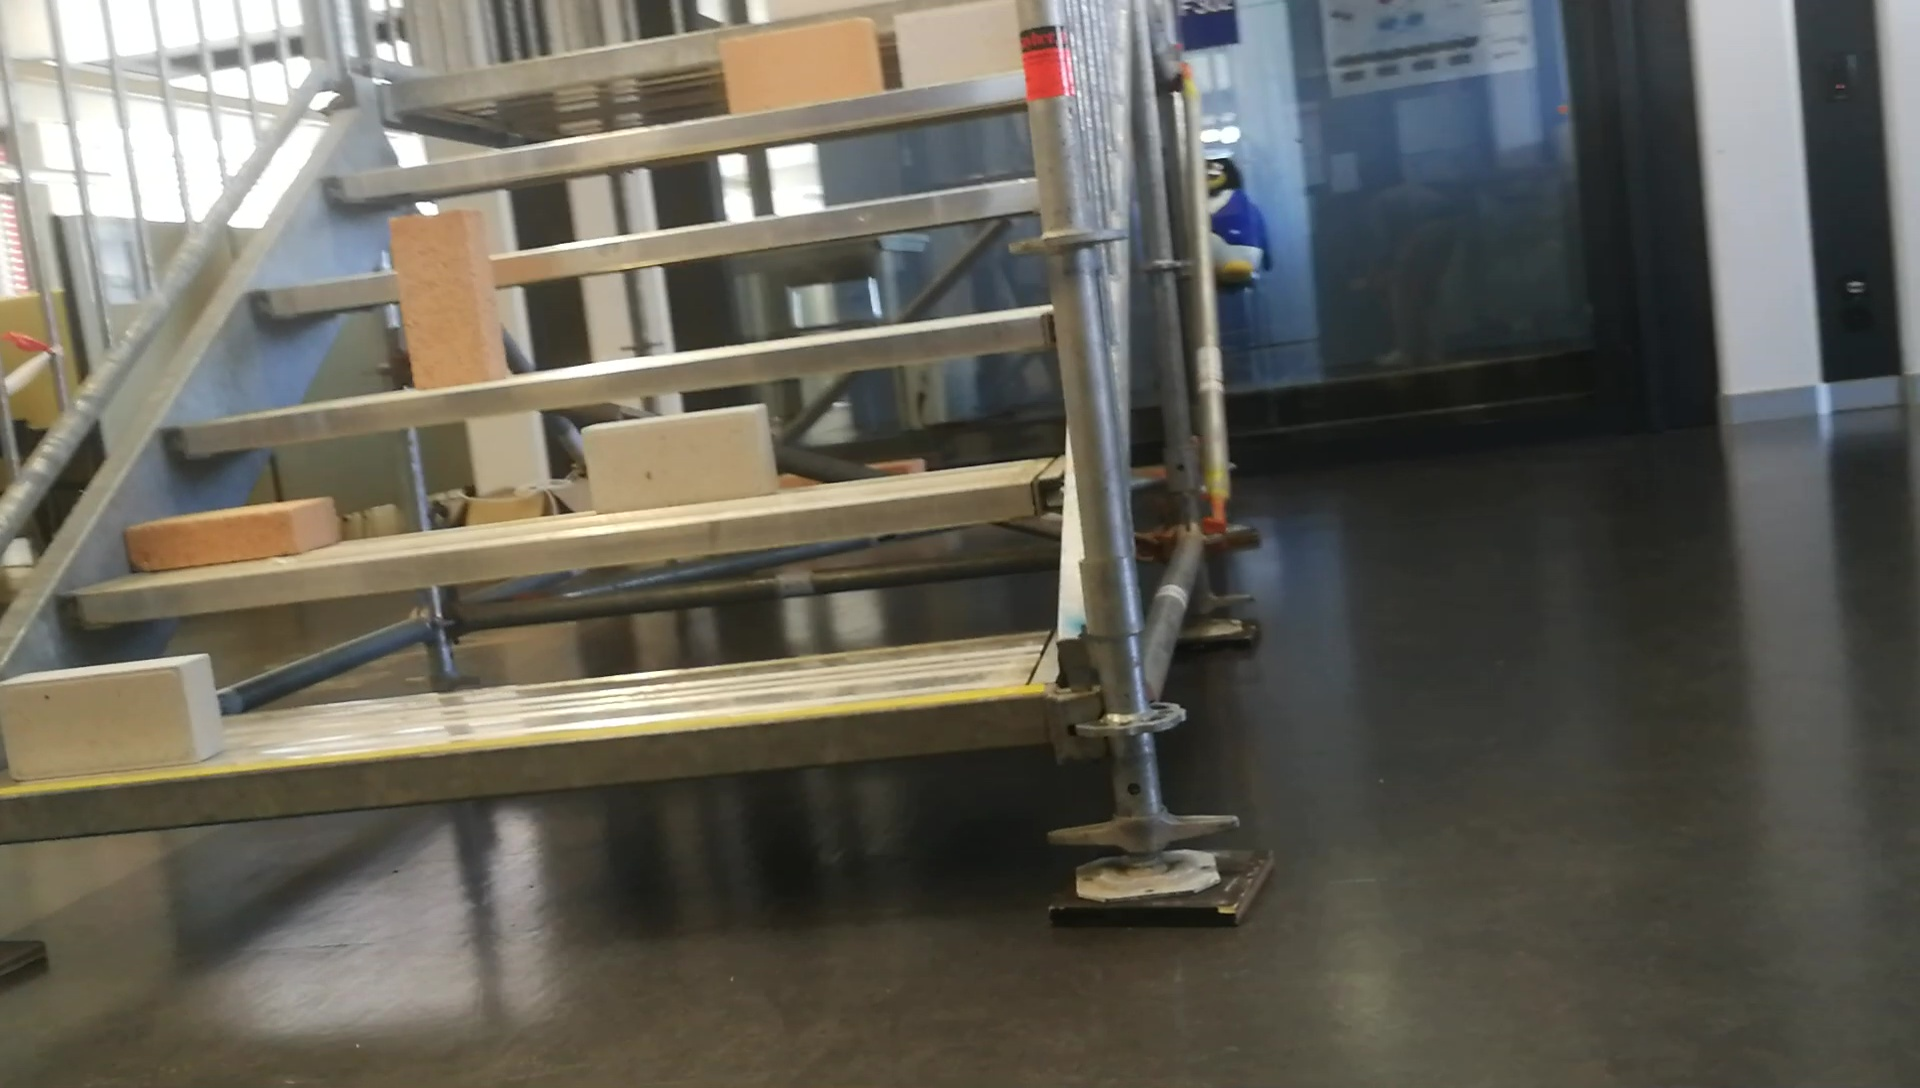brick: (7, 655, 218, 775), (585, 405, 773, 516), (392, 206, 505, 386), (127, 496, 334, 567), (723, 18, 877, 113), (899, 3, 1018, 87)
edge: (3, 688, 1046, 845), (61, 479, 1072, 620), (162, 309, 1058, 452), (252, 179, 1050, 317), (324, 70, 1025, 198)
stairs: (0, 0, 1262, 988)
steps: (7, 5, 1077, 866)
